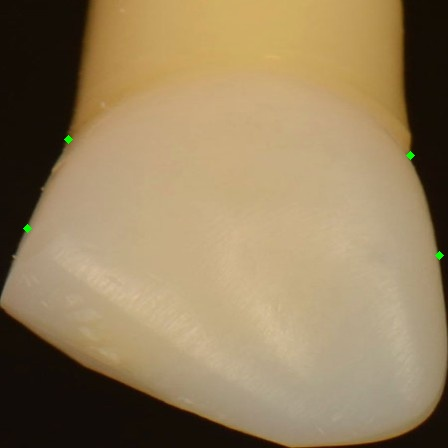coin_1: (68, 139, 88, 159)
coin_2: (27, 228, 47, 248)
coin_3: (410, 155, 430, 175)
coin_4: (439, 255, 448, 275)
